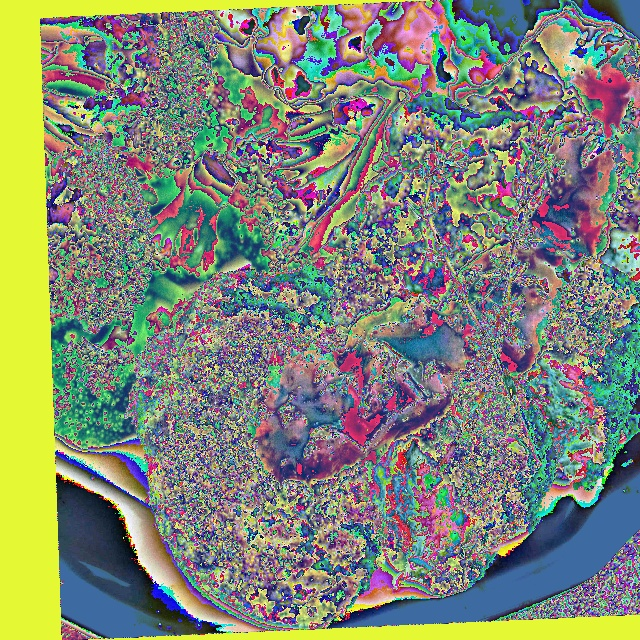background: (40, 0, 639, 630)
